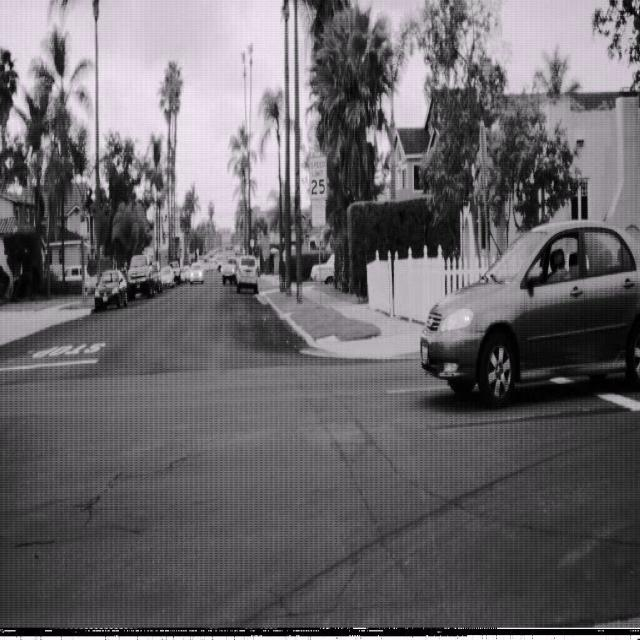speedLimit25: (308, 153, 328, 201)
